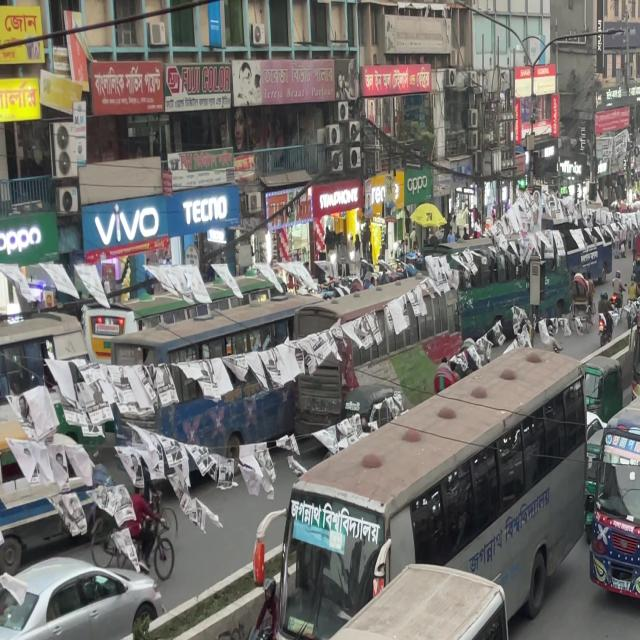bus: (265, 347, 593, 640), (580, 330, 640, 605)
van: (73, 554, 530, 640)
